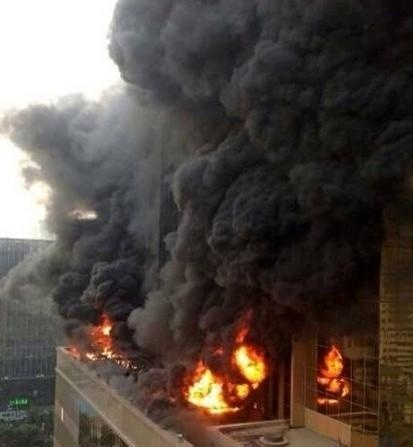fire: (183, 328, 267, 414), (69, 317, 128, 362), (316, 343, 349, 401)
